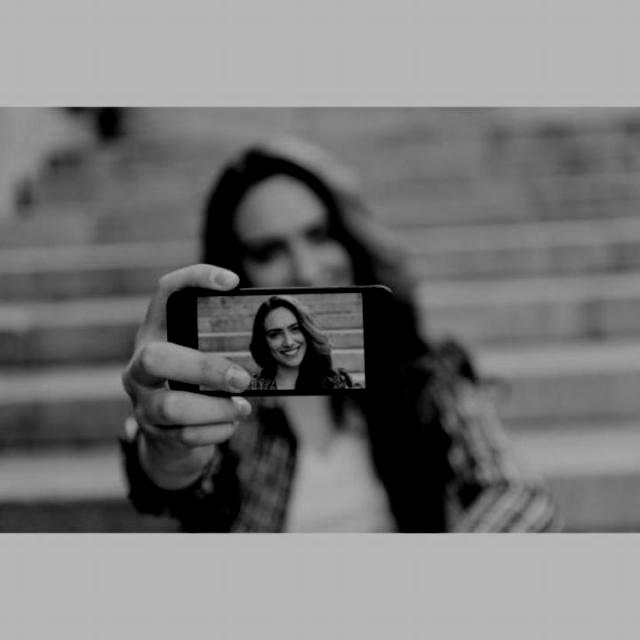fake: (165, 281, 399, 402)
